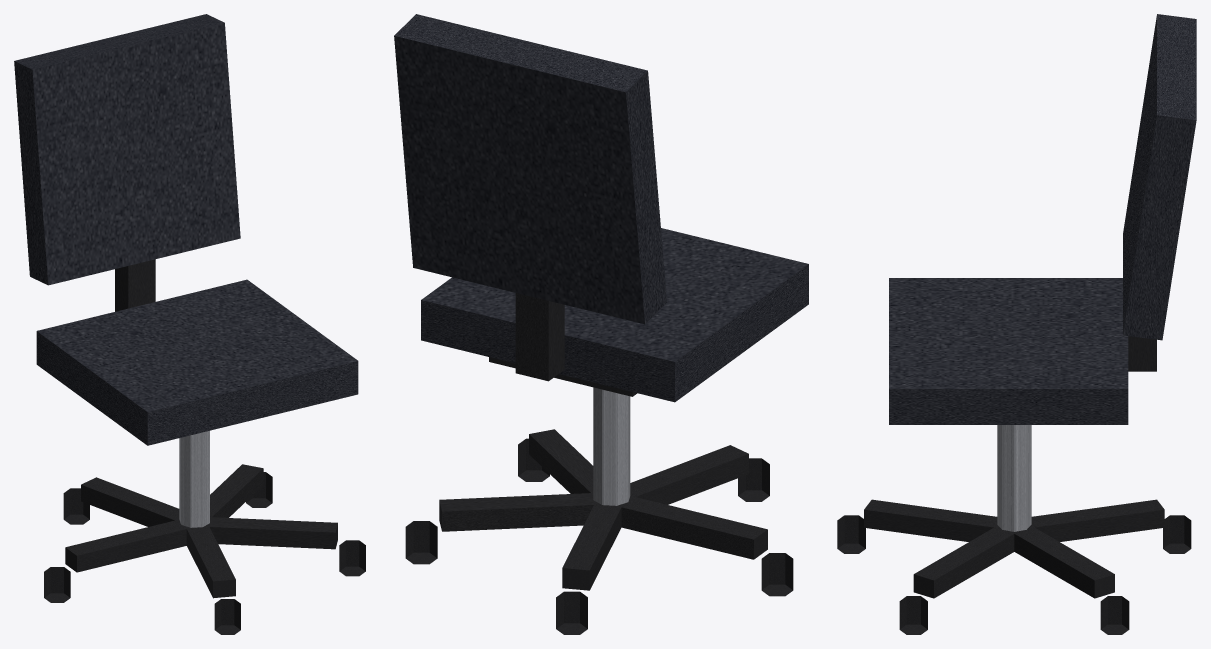
The model's file is SM_SaveChair_Fabric.fbx.
The picture shows the model from 3 angles, left to right: view 1: azimuth 30°, elevation 25°; view 2: azimuth 150°, elevation 25°; view 3: azimuth 270°, elevation 25°; orthographic projection. The views are drawn at different scales.
Visible parts, largest first — view 1: SM_SaveChair_Fabric; view 2: SM_SaveChair_Fabric; view 3: SM_SaveChair_Fabric.
Part boxes in pixels (box(x1,y1,x2,y2)): SM_SaveChair_Fabric: box(14, 14, 365, 634); SM_SaveChair_Fabric: box(394, 14, 808, 634); SM_SaveChair_Fabric: box(837, 14, 1196, 634).
Bounding box in the file's own units: 0.586 × 0.98 × 0.6298.
1 material, 1 textured.
